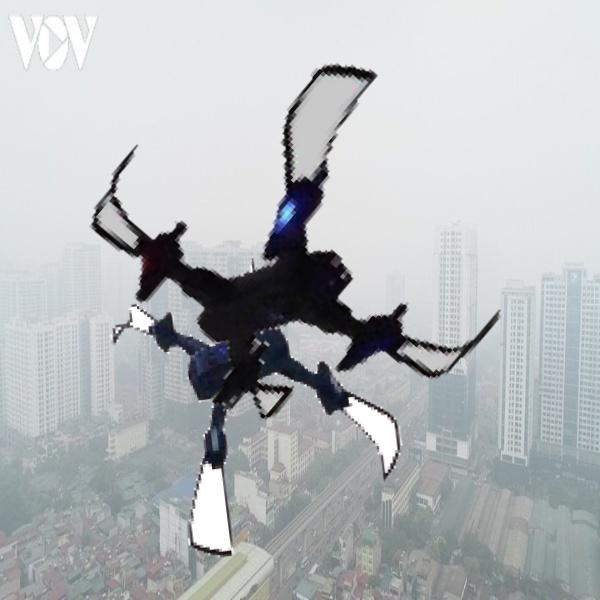drone: (109, 33, 526, 450), (111, 253, 417, 559)
